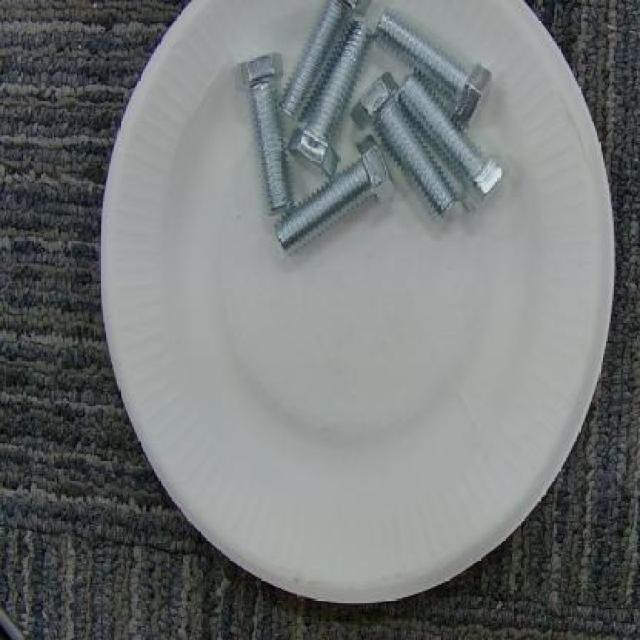Bolt: (351, 72, 465, 226), (273, 135, 394, 257), (377, 9, 496, 129), (400, 76, 510, 202), (290, 18, 372, 182), (237, 56, 299, 216), (279, 0, 354, 126)
